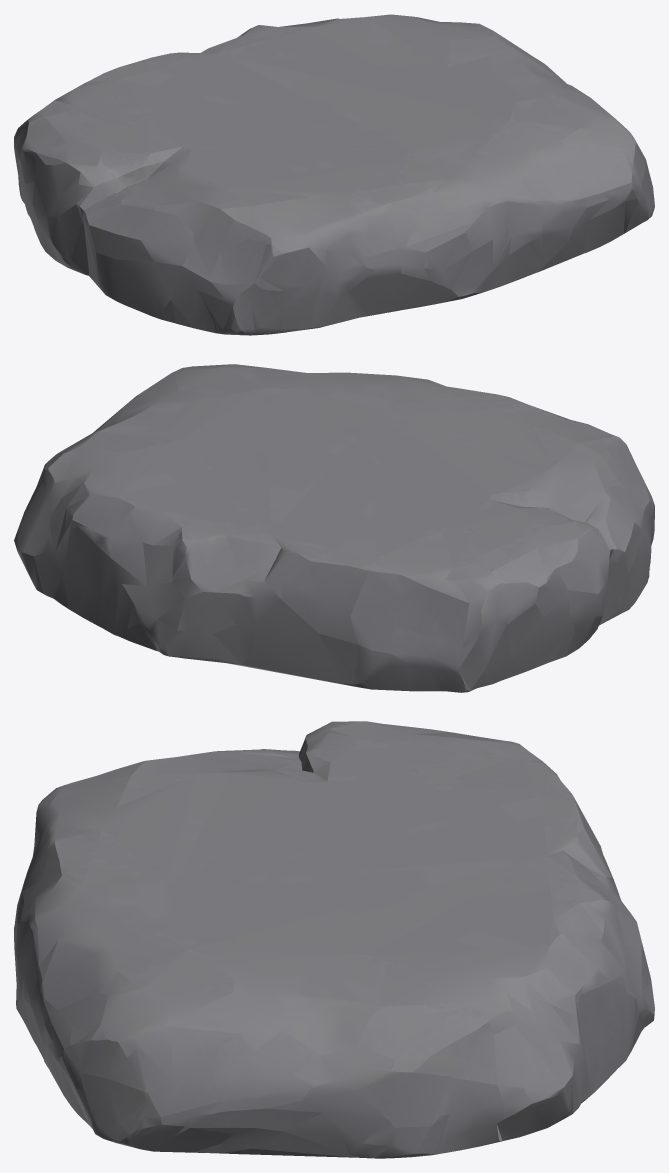
The model's file is nature-rock-flat.glb.
The picture shows the model from 3 angles, top to bottom: view 1: azimuth 30°, elevation 25°; view 2: azimuth 150°, elevation 25°; view 3: azimuth 270°, elevation 25°; orthographic projection. The views are drawn at different scales.
Parts seen in each view (by area): view 1: nature-rock-flat-fit; view 2: nature-rock-flat-fit; view 3: nature-rock-flat-fit.
Part boxes in pixels (x1,y1,x2,y2): nature-rock-flat-fit: (14, 14, 654, 335); nature-rock-flat-fit: (14, 364, 654, 692); nature-rock-flat-fit: (14, 721, 654, 1158).
Bounding box in the file's own units: 2.1 × 0.3962 × 1.76.
Materials: 1 (1 with a texture image).
